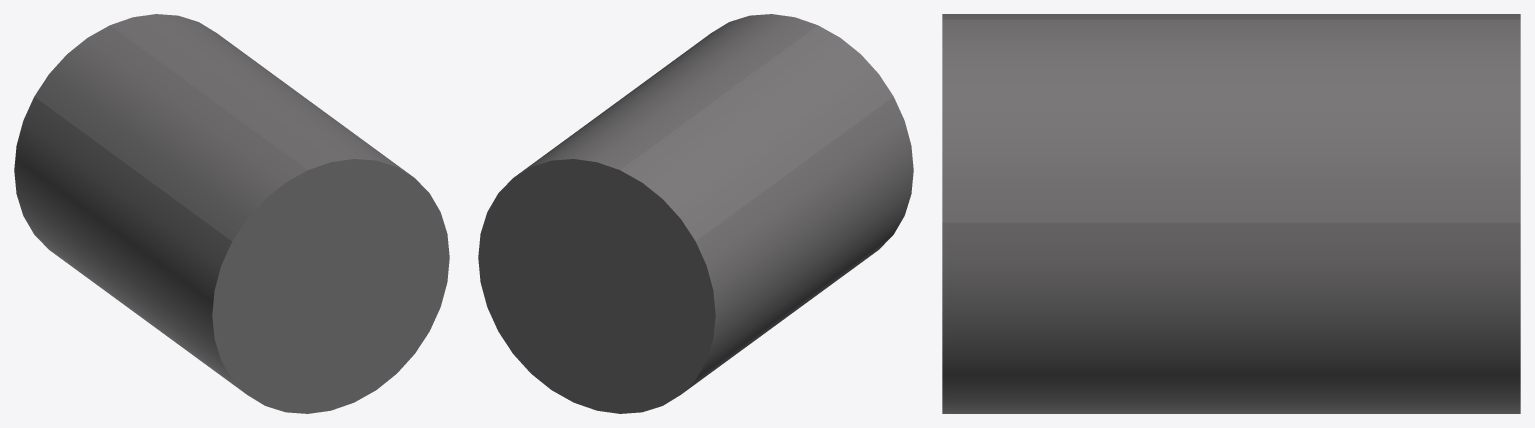
File: frame__back_right_tab.glb
The picture shows the model from 3 angles, left to right: view 1: azimuth 30°, elevation 25°; view 2: azimuth 150°, elevation 25°; view 3: azimuth 270°, elevation 25°; orthographic projection. The views are drawn at different scales.
Visible parts, largest first — view 1: world; view 2: world; view 3: world.
Part boxes in pixels (box(x1,y1,x2,y2)): world: box(14, 14, 449, 413); world: box(478, 14, 913, 413); world: box(942, 14, 1520, 413).
Bounding box in the file's own units: 0.018 × 0.018 × 0.026.
Materials: 1 (1 with a texture image).
